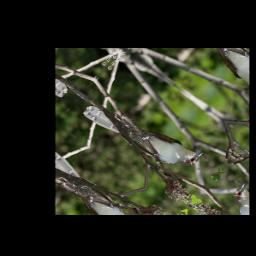Cuckoo: (80, 82, 208, 186)
